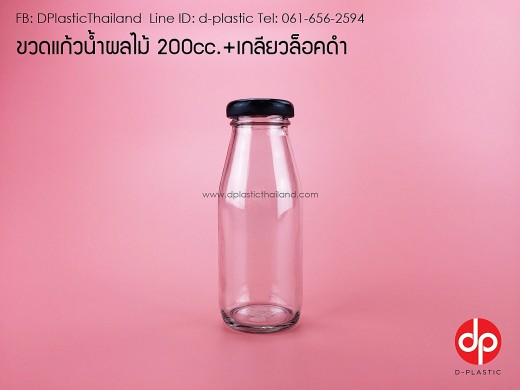glass_bottleww: (185, 78, 341, 353)
